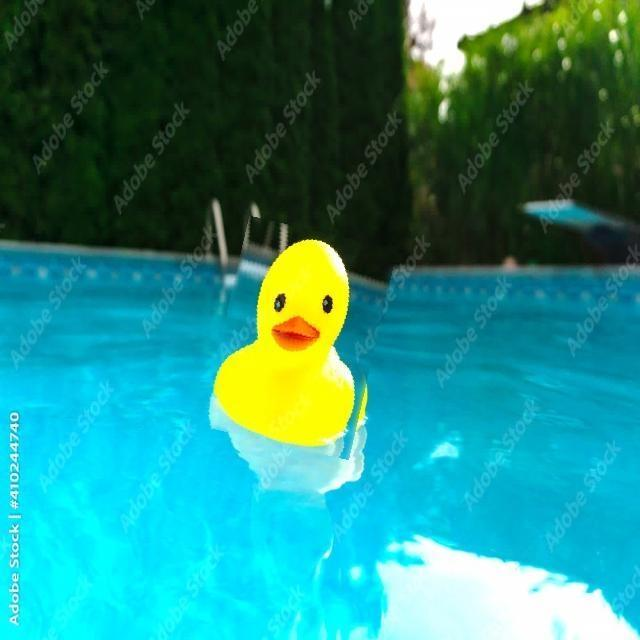rubber-duck: (213, 239, 352, 444)
